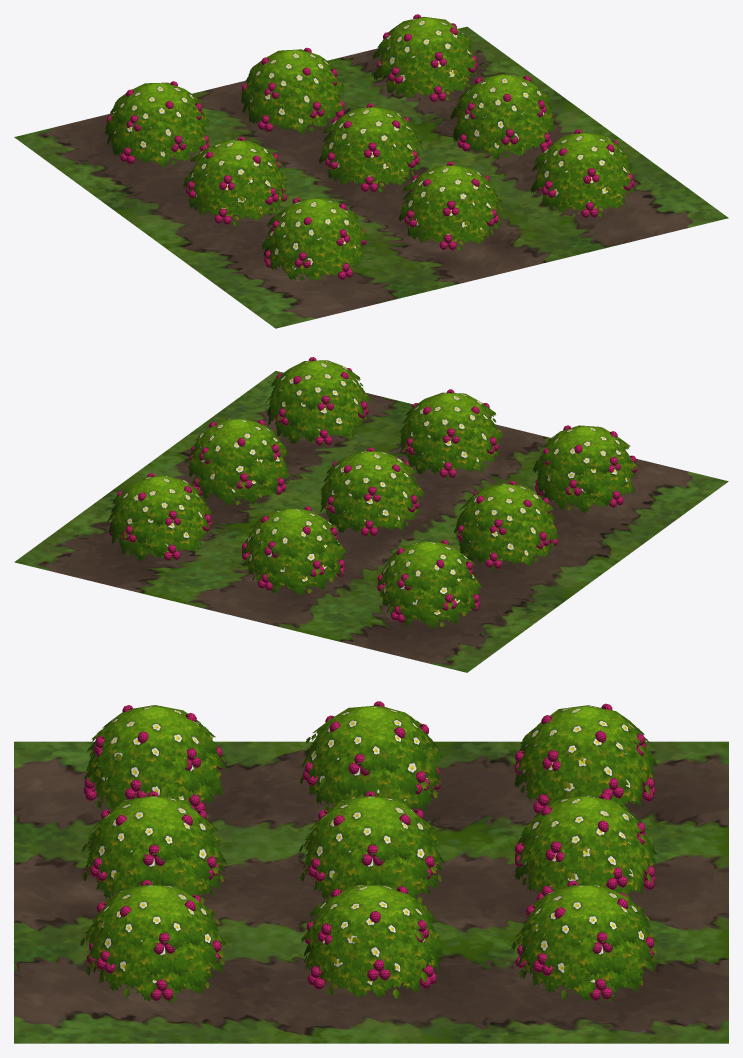
Rendered from rasp-berry-fields.fbx.
3 views of the same model, one above another, from view 1: azimuth 30°, elevation 25°; view 2: azimuth 150°, elevation 25°; view 3: azimuth 270°, elevation 25° (orthographic). The views are drawn at different scales.
Visible parts, largest first — view 1: ground_rasp_berryfields, BUSH_TREE1_4_5, BUSH_TREE1_4_8, BUSH_TREE1_4_2, BUSH_TREE1_4_10, BUSH_TREE1_4_9, BUSH_TREE1_4_7, BUSH_TREE1_4_6, BUSH_TREE1_4_3, BUSH_TREE1_4, BUSH_TREE1_2_4, BUSH_TREE1_2_5 (+21 smaller); view 2: ground_rasp_berryfields, BUSH_TREE1_4_10, BUSH_TREE1_4_2, BUSH_TREE1_4_3, BUSH_TREE1_4_5, BUSH_TREE1_4_7, BUSH_TREE1_4, BUSH_TREE1_4_6, BUSH_TREE1_4_8, BUSH_TREE1_4_9, BUSH_TREE1_2_8, BUSH_TREE1_2_5 (+16 smaller); view 3: ground_rasp_berryfields, BUSH_TREE1_4_9, BUSH_TREE1_4_6, BUSH_TREE1_4_7, BUSH_TREE1_4_3, BUSH_TREE1_4, BUSH_TREE1_4_2, BUSH_TREE1_4_10, BUSH_TREE1_4_8, BUSH_TREE1_4_5, BUSH_TREE1_2_4, BUSH_TREE1_2 (+19 smaller).
Part boxes in pixels (left/top/right/bottom): ground_rasp_berryfields: left=14, top=26, right=728, bottom=328; BUSH_TREE1_4_5: left=245, top=49, right=337, bottom=99; BUSH_TREE1_4_8: left=110, top=82, right=201, bottom=131; BUSH_TREE1_4_2: left=456, top=74, right=549, bottom=121; BUSH_TREE1_4_10: left=267, top=198, right=362, bottom=246; BUSH_TREE1_4_9: left=190, top=140, right=282, bottom=186; BUSH_TREE1_4_7: left=402, top=165, right=495, bottom=209; BUSH_TREE1_4_6: left=323, top=106, right=416, bottom=151; BUSH_TREE1_4_3: left=535, top=132, right=629, bottom=178; BUSH_TREE1_4: left=377, top=17, right=472, bottom=63; BUSH_TREE1_2_4: left=532, top=159, right=635, bottom=197; BUSH_TREE1_2_5: left=240, top=78, right=345, bottom=115; ground_rasp_berryfields: left=14, top=371, right=728, bottom=672; BUSH_TREE1_4_10: left=539, top=425, right=630, bottom=476; BUSH_TREE1_4_2: left=193, top=418, right=286, bottom=468; BUSH_TREE1_4_3: left=271, top=360, right=364, bottom=410; BUSH_TREE1_4_5: left=247, top=508, right=339, bottom=558; BUSH_TREE1_4_7: left=402, top=392, right=495, bottom=442; BUSH_TREE1_4: left=112, top=475, right=207, bottom=526; BUSH_TREE1_4_6: left=323, top=451, right=416, bottom=500; BUSH_TREE1_4_8: left=382, top=541, right=475, bottom=591; BUSH_TREE1_4_9: left=459, top=483, right=553, bottom=533; BUSH_TREE1_2_8: left=378, top=567, right=482, bottom=610; BUSH_TREE1_2_5: left=243, top=535, right=346, bottom=577; ground_rasp_berryfields: left=14, top=741, right=728, bottom=1043; BUSH_TREE1_4_9: left=305, top=705, right=437, bottom=772; BUSH_TREE1_4_6: left=306, top=795, right=436, bottom=862; BUSH_TREE1_4_7: left=88, top=795, right=219, bottom=862; BUSH_TREE1_4_3: left=91, top=884, right=219, bottom=950; BUSH_TREE1_4: left=523, top=885, right=650, bottom=950; BUSH_TREE1_4_2: left=309, top=885, right=436, bottom=950; BUSH_TREE1_4_10: left=91, top=705, right=218, bottom=768; BUSH_TREE1_4_8: left=520, top=705, right=649, bottom=772; BUSH_TREE1_4_5: left=520, top=795, right=648, bottom=862; BUSH_TREE1_2_4: left=80, top=919, right=228, bottom=977; BUSH_TREE1_2: left=511, top=922, right=658, bottom=976.
Size of the model in its own units: 500 by 73.28 by 500.
Materials: 3 (3 with a texture image).
